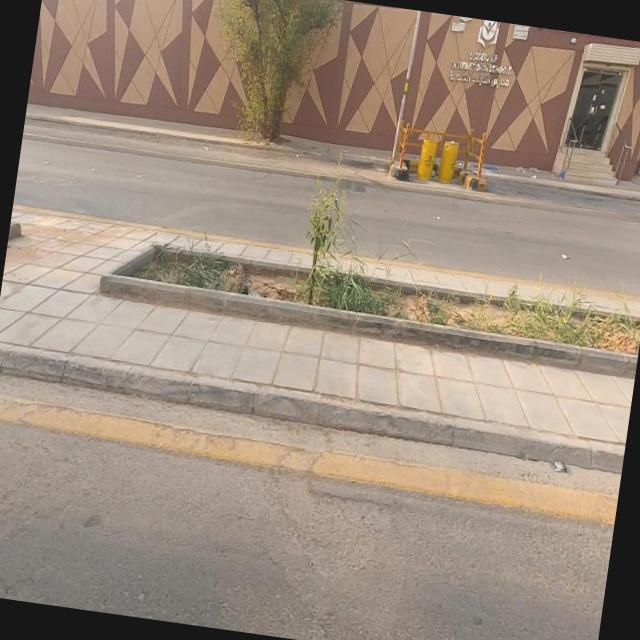debris: (376, 80, 493, 232), (482, 118, 574, 218), (466, 133, 516, 205)
